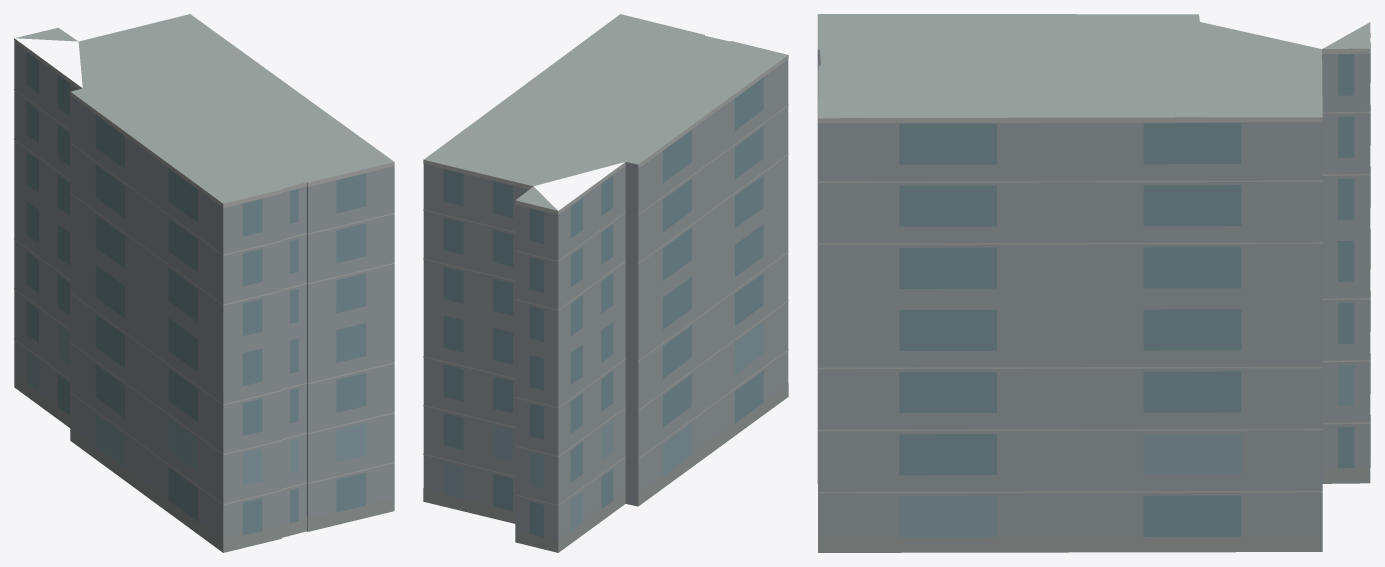
The model's file is survey-upis-32827410.glb.
3 views of the same model, side by side, from view 1: azimuth 30°, elevation 25°; view 2: azimuth 150°, elevation 25°; view 3: azimuth 270°, elevation 25° (orthographic). The views are drawn at different scales.
Visible parts, largest first — view 1: survey-upis-32827410.tmp; view 2: survey-upis-32827410.tmp; view 3: survey-upis-32827410.tmp.
Boxes of the visible parts, x1,y1,x2,y2 form: survey-upis-32827410.tmp: (14,14,394,552); survey-upis-32827410.tmp: (423,14,788,552); survey-upis-32827410.tmp: (817,14,1370,552).
Bounding box in the file's own units: 10.71 × 20.8 × 24.01.
